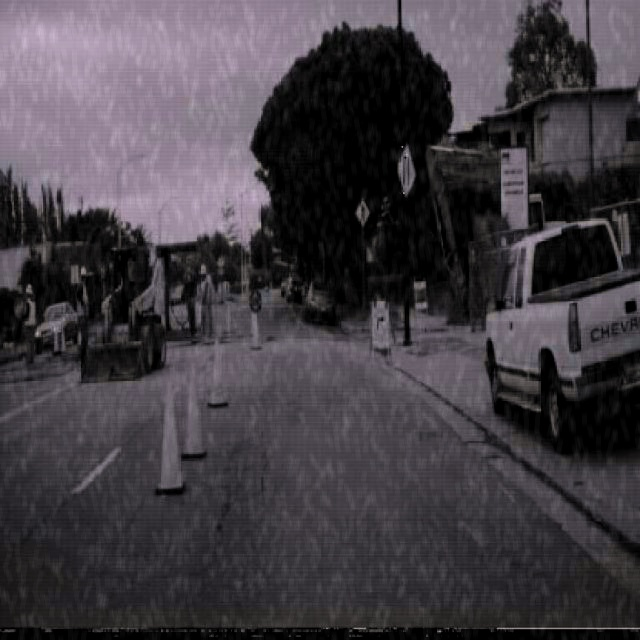laneEnds: (397, 142, 416, 198)
pedestrianCrossing: (355, 197, 371, 230)
